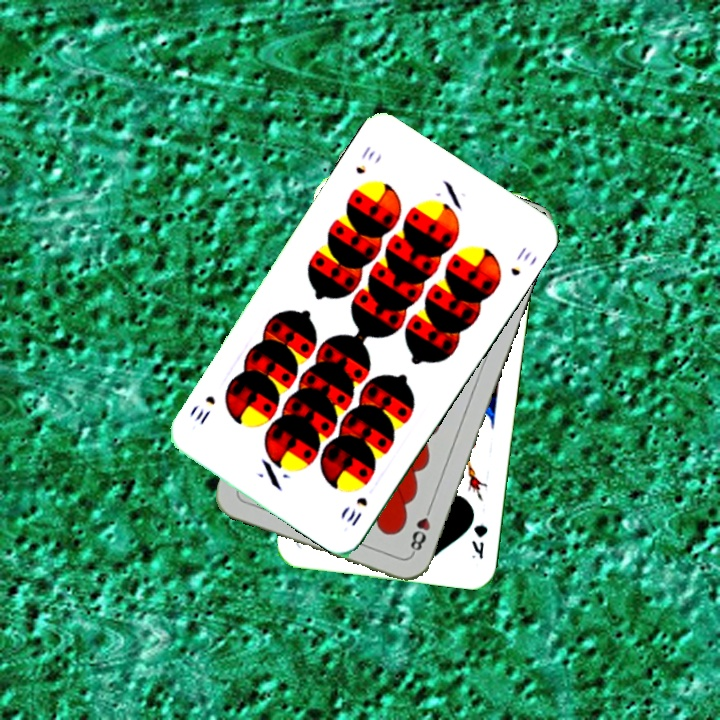GK: (467, 521, 490, 562)
H8: (406, 500, 435, 557)
S10: (342, 492, 370, 529), (351, 141, 378, 177)
